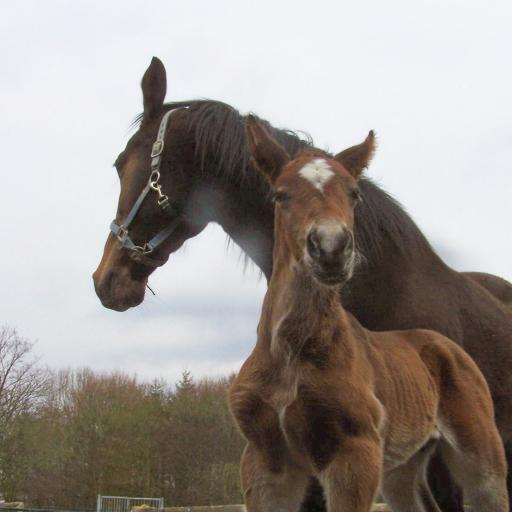horse: (90, 54, 511, 512), (226, 112, 508, 512)
